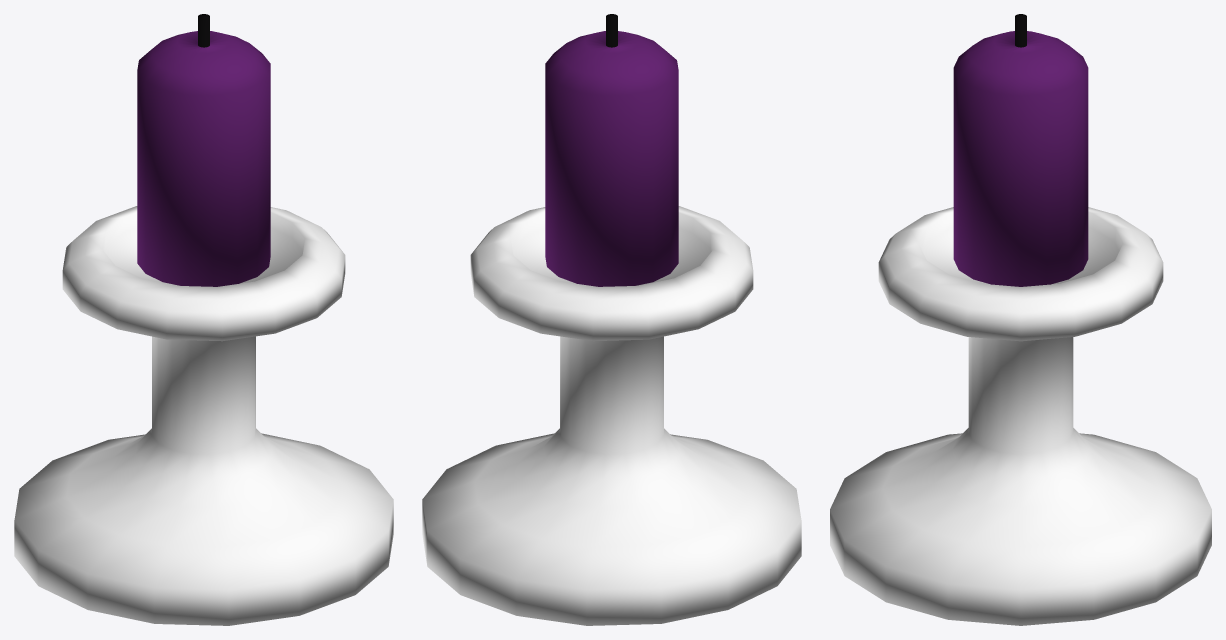
Rendered from TableDecor_01_Goth.glb.
3 renders of one model, left to right at view 1: azimuth 30°, elevation 25°; view 2: azimuth 150°, elevation 25°; view 3: azimuth 270°, elevation 25°, orthographic.
Visible parts, largest first — view 1: TableDecor_01_Goth; view 2: TableDecor_01_Goth; view 3: TableDecor_01_Goth.
Part boxes in pixels (x1=…): TableDecor_01_Goth: x1=14, y1=14, x2=393, y2=625; TableDecor_01_Goth: x1=422, y1=14, x2=801, y2=625; TableDecor_01_Goth: x1=830, y1=14, x2=1211, y2=625.
Bounding box in the file's own units: 0.1249 × 0.1909 × 0.1249.
1 material, 1 textured.
